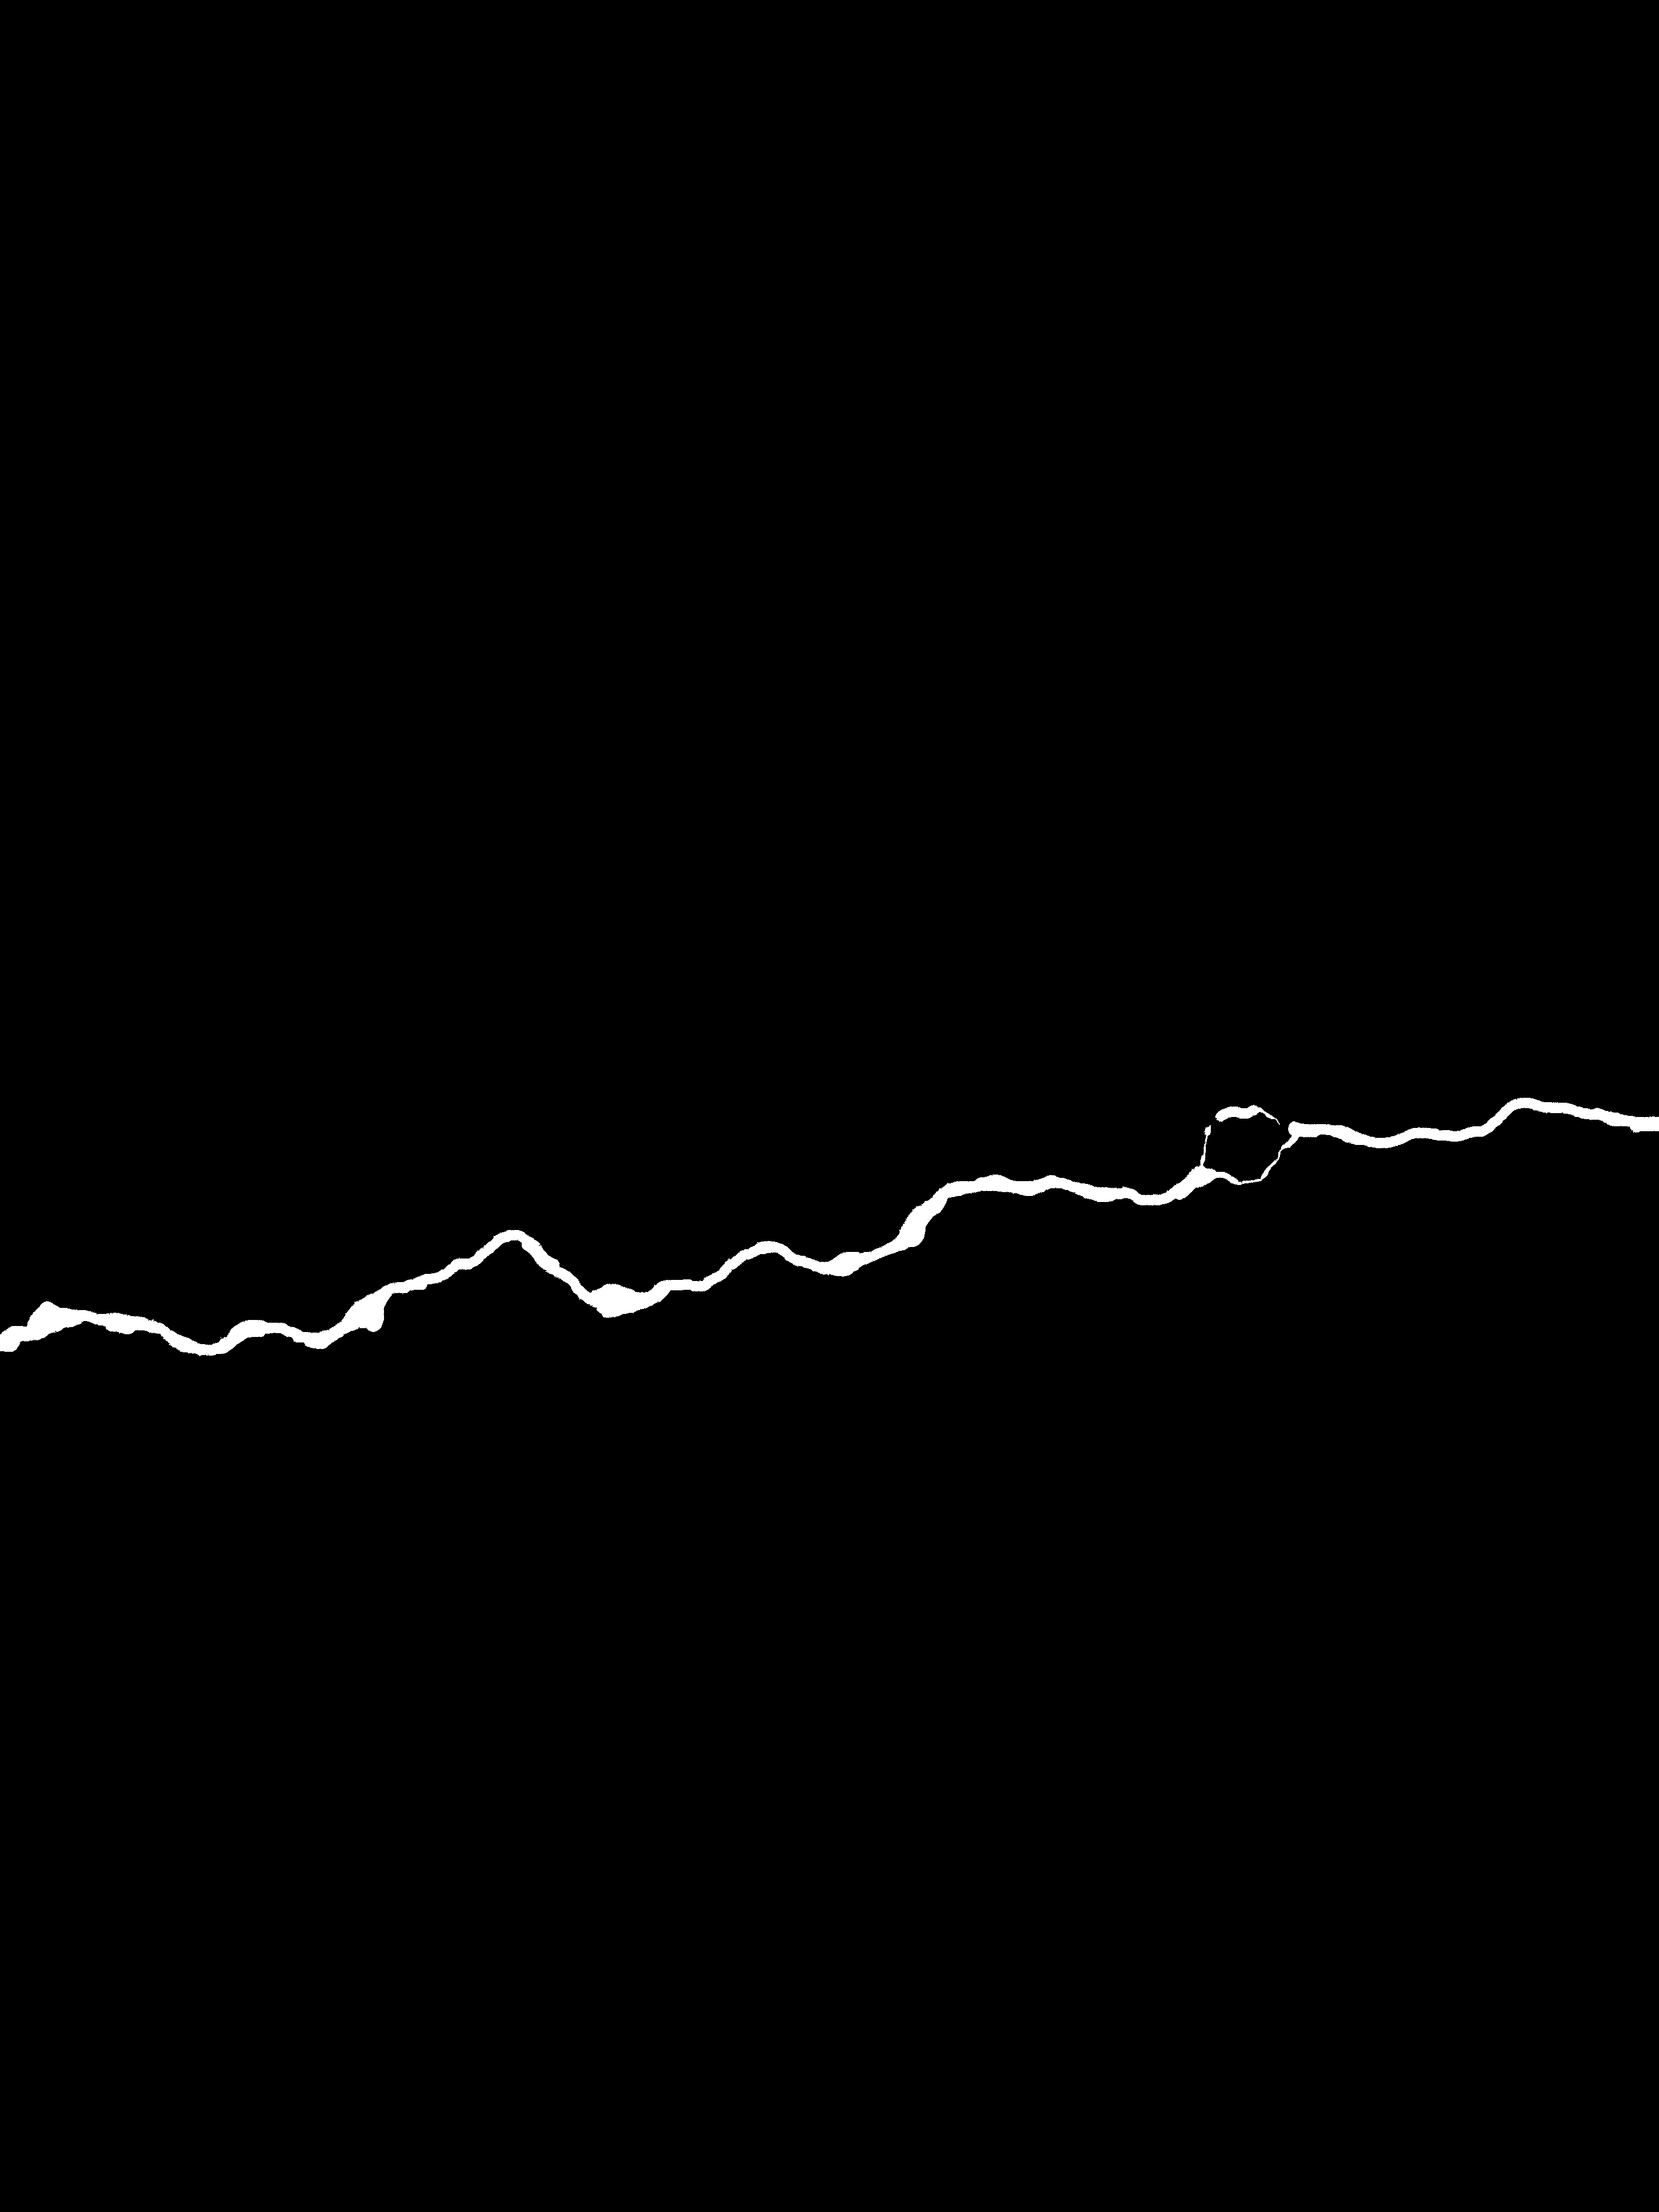Crack: (0, 1061, 1659, 1367)
